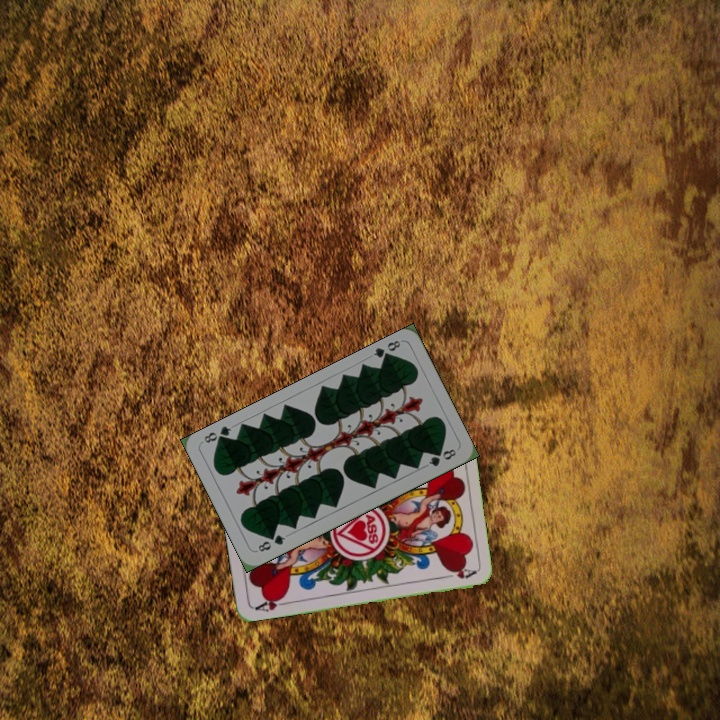G8: (369, 336, 403, 364), (254, 530, 288, 555)
HA: (251, 592, 291, 614)
